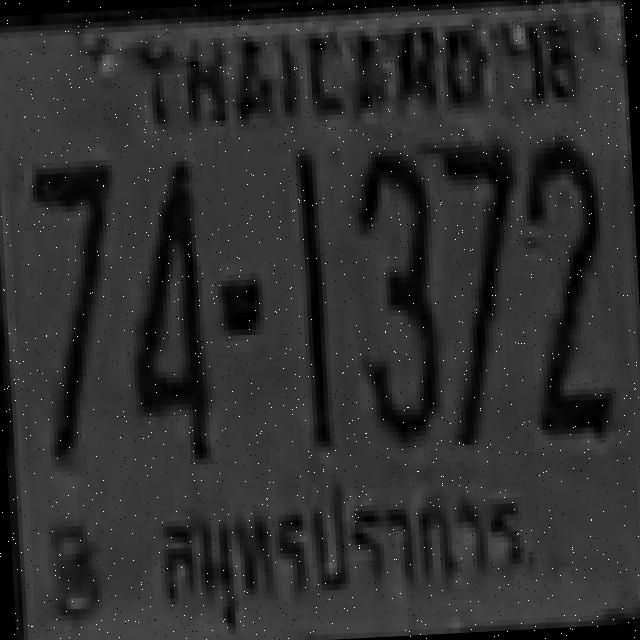1: (295, 149, 329, 409)
2: (521, 134, 606, 397)
3: (349, 143, 440, 439)
4: (120, 155, 210, 457)
7: (27, 160, 122, 445), (437, 139, 524, 440), (28, 157, 120, 415), (27, 158, 117, 348), (439, 138, 520, 318)
SamutPrakan: (137, 461, 542, 634)
